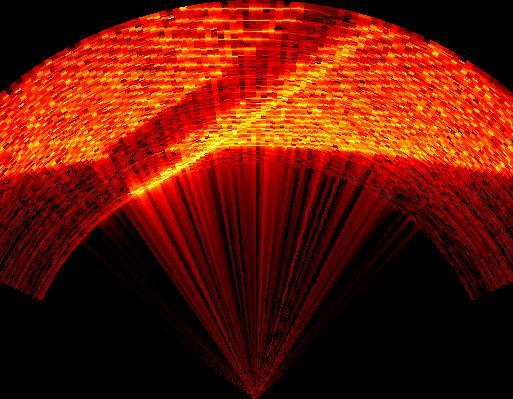pipe: (106, 4, 352, 191)
